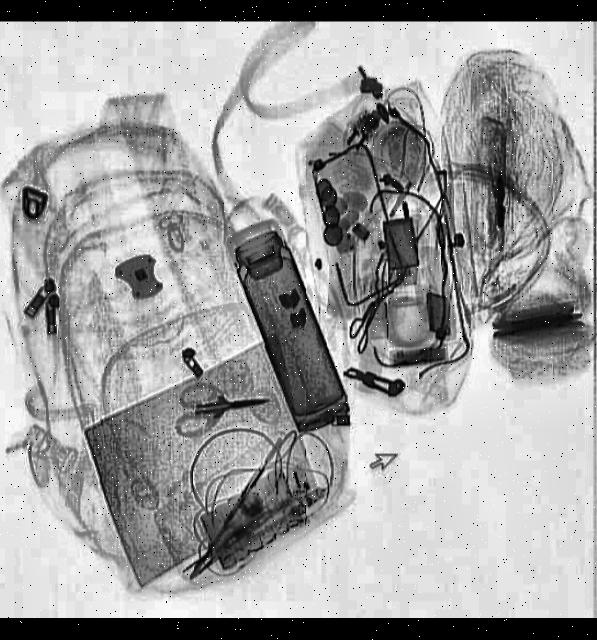Knife: (194, 388, 272, 421)
